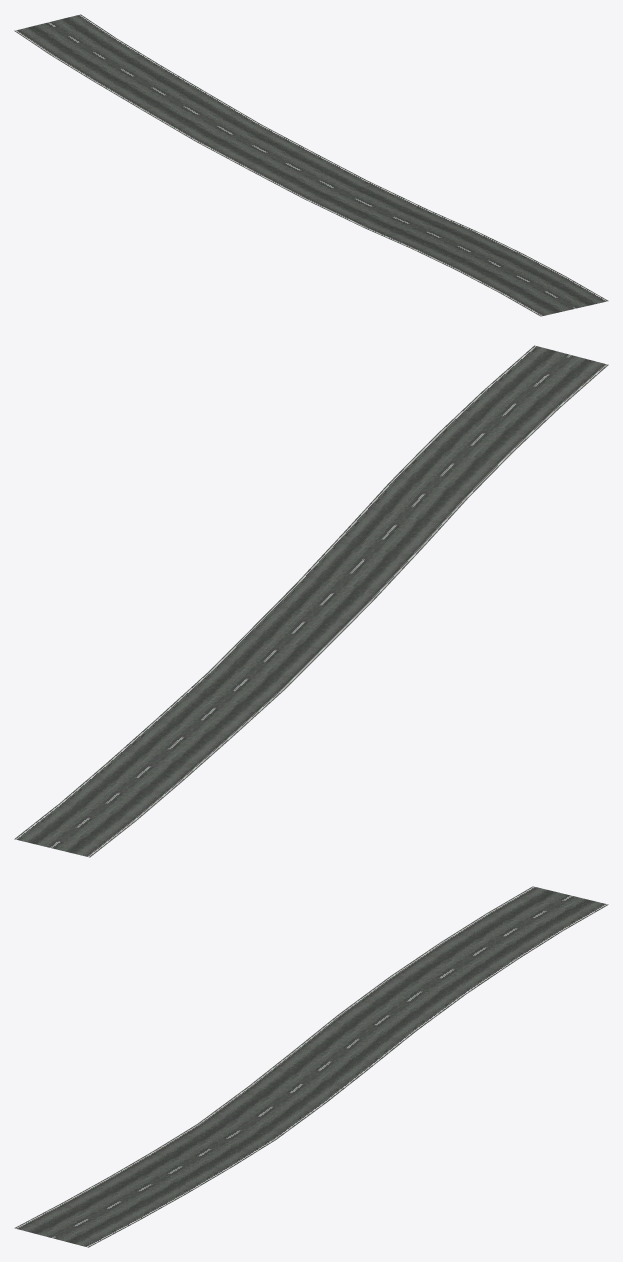
Rendered from lodcuntwroad51.obj.
3 views of the same model, one above another, from view 1: azimuth 30°, elevation 25°; view 2: azimuth 150°, elevation 25°; view 3: azimuth 330°, elevation 25° (orthographic). The views are drawn at different scales.
Parts seen in each view (by area): view 1: LODcuntwroad51; view 2: LODcuntwroad51; view 3: LODcuntwroad51.
Part boxes in pixels (bbox=[...]): LODcuntwroad51: bbox=[14, 14, 608, 316]; LODcuntwroad51: bbox=[14, 345, 608, 857]; LODcuntwroad51: bbox=[14, 886, 608, 1247].
Bounding box in the file's own units: 18.63 × 11.39 × 153.
Materials: 1 (1 with a texture image).
